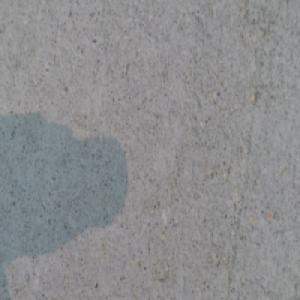Washer: (161, 286, 186, 300)
